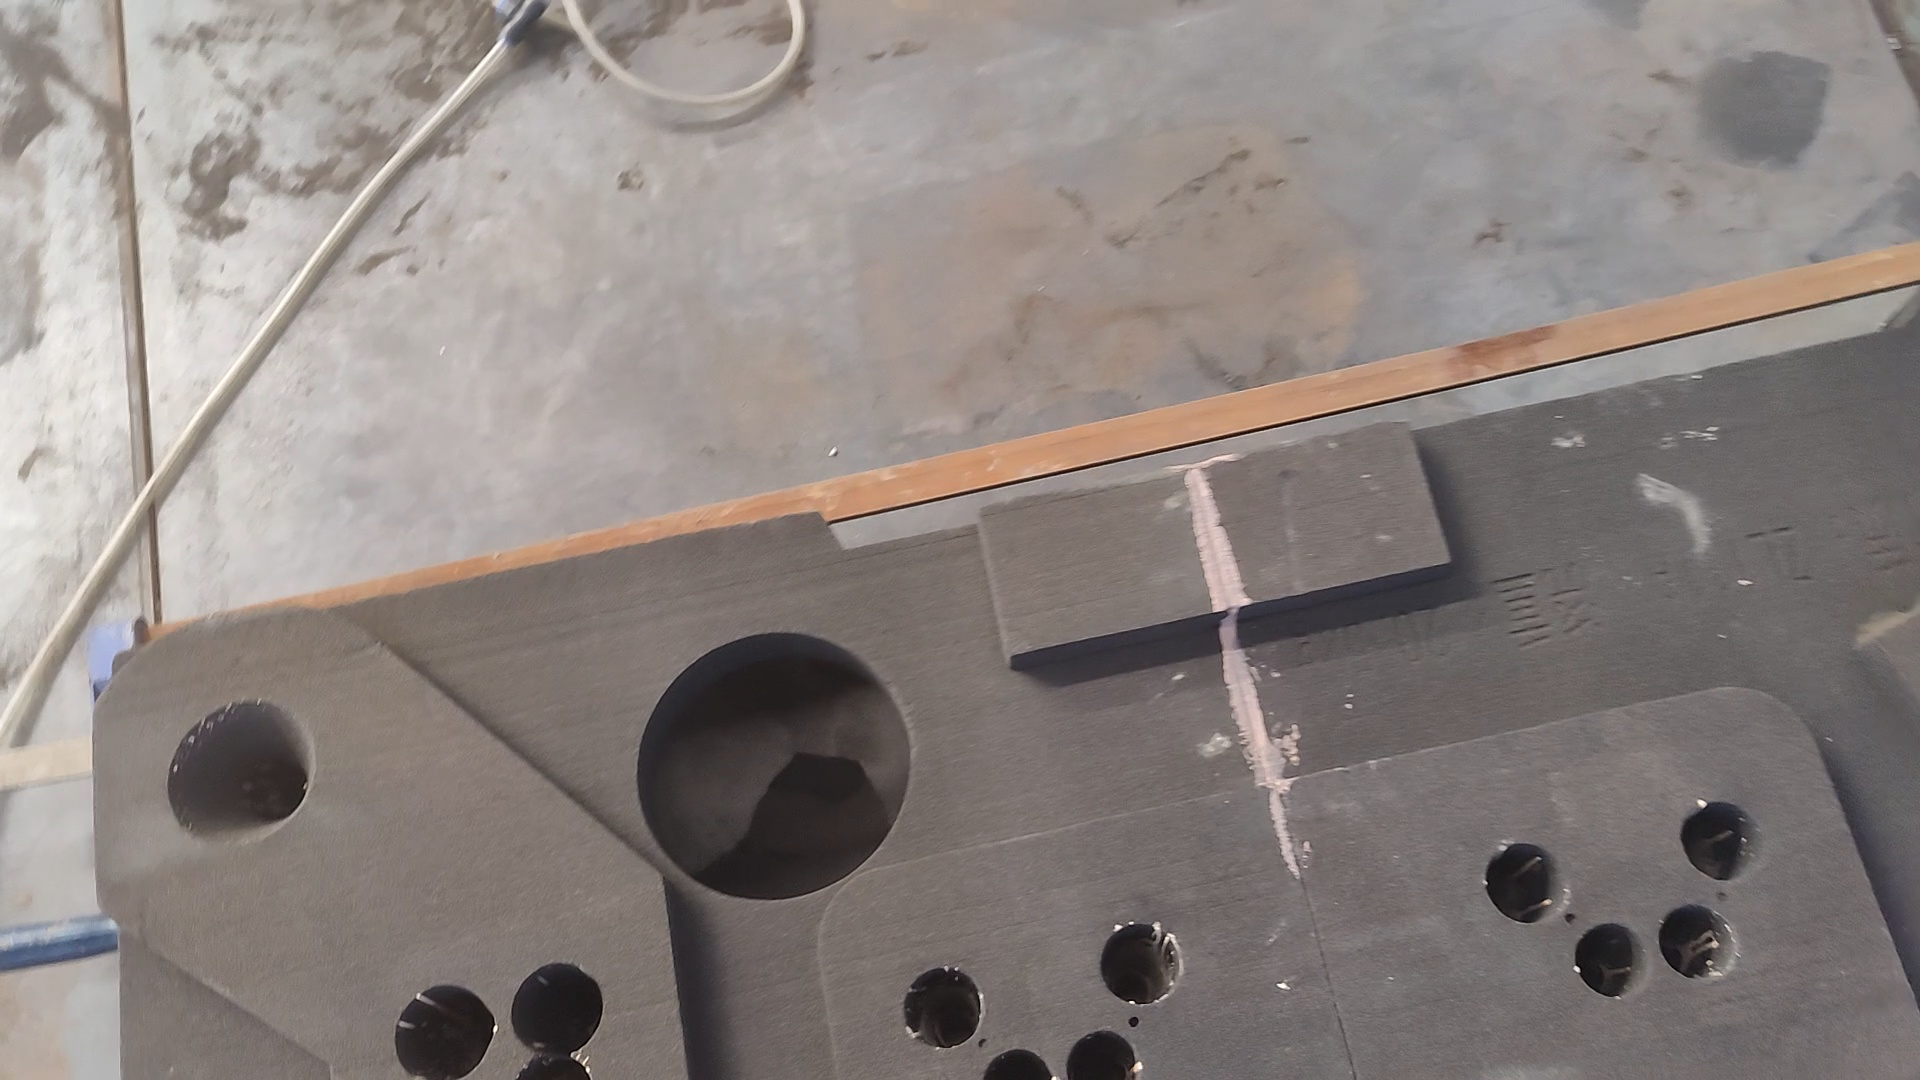pouring hole: (166, 698, 315, 843)
